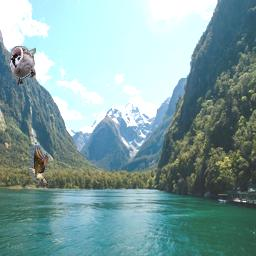Cuckoo: (28, 145, 61, 185)
Sparrow: (10, 46, 36, 86)
